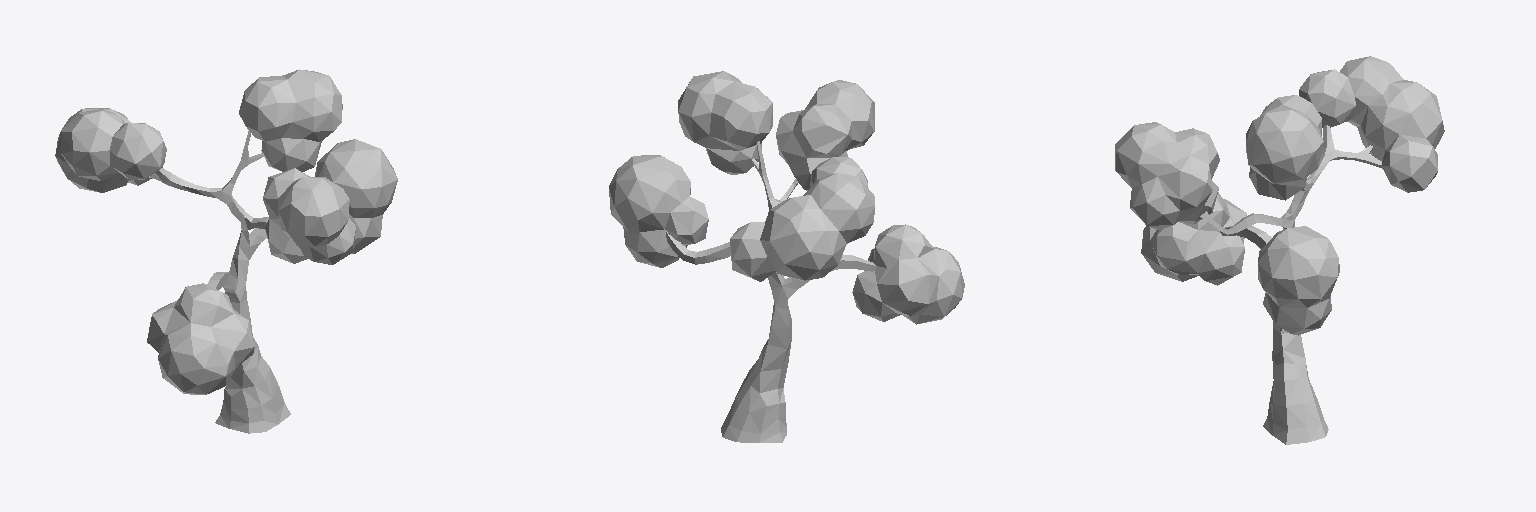
Rendered from tree2.obj.
3 renders of one model, left to right at view 1: azimuth 30°, elevation 25°; view 2: azimuth 150°, elevation 25°; view 3: azimuth 270°, elevation 25°, orthographic.
Parts seen in each view (by area): view 1: LowPoly_Tree_04_lowpoly_tree_05_Mesh.001; view 2: LowPoly_Tree_04_lowpoly_tree_05_Mesh.001; view 3: LowPoly_Tree_04_lowpoly_tree_05_Mesh.001.
Boxes of the visible parts, x1=… form: LowPoly_Tree_04_lowpoly_tree_05_Mesh.001: x1=55, y1=69, x2=397, y2=433; LowPoly_Tree_04_lowpoly_tree_05_Mesh.001: x1=609, y1=71, x2=964, y2=442; LowPoly_Tree_04_lowpoly_tree_05_Mesh.001: x1=1115, y1=56, x2=1444, y2=444.
Size of the model in its own units: 3.63 by 4.08 by 3.58.